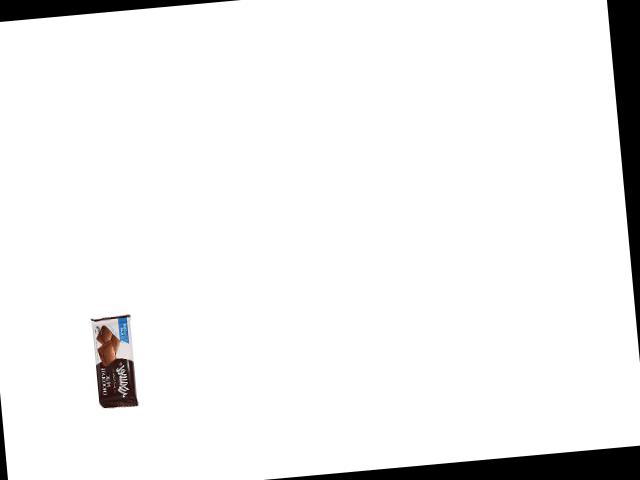chocolate: (89, 313, 140, 408)
